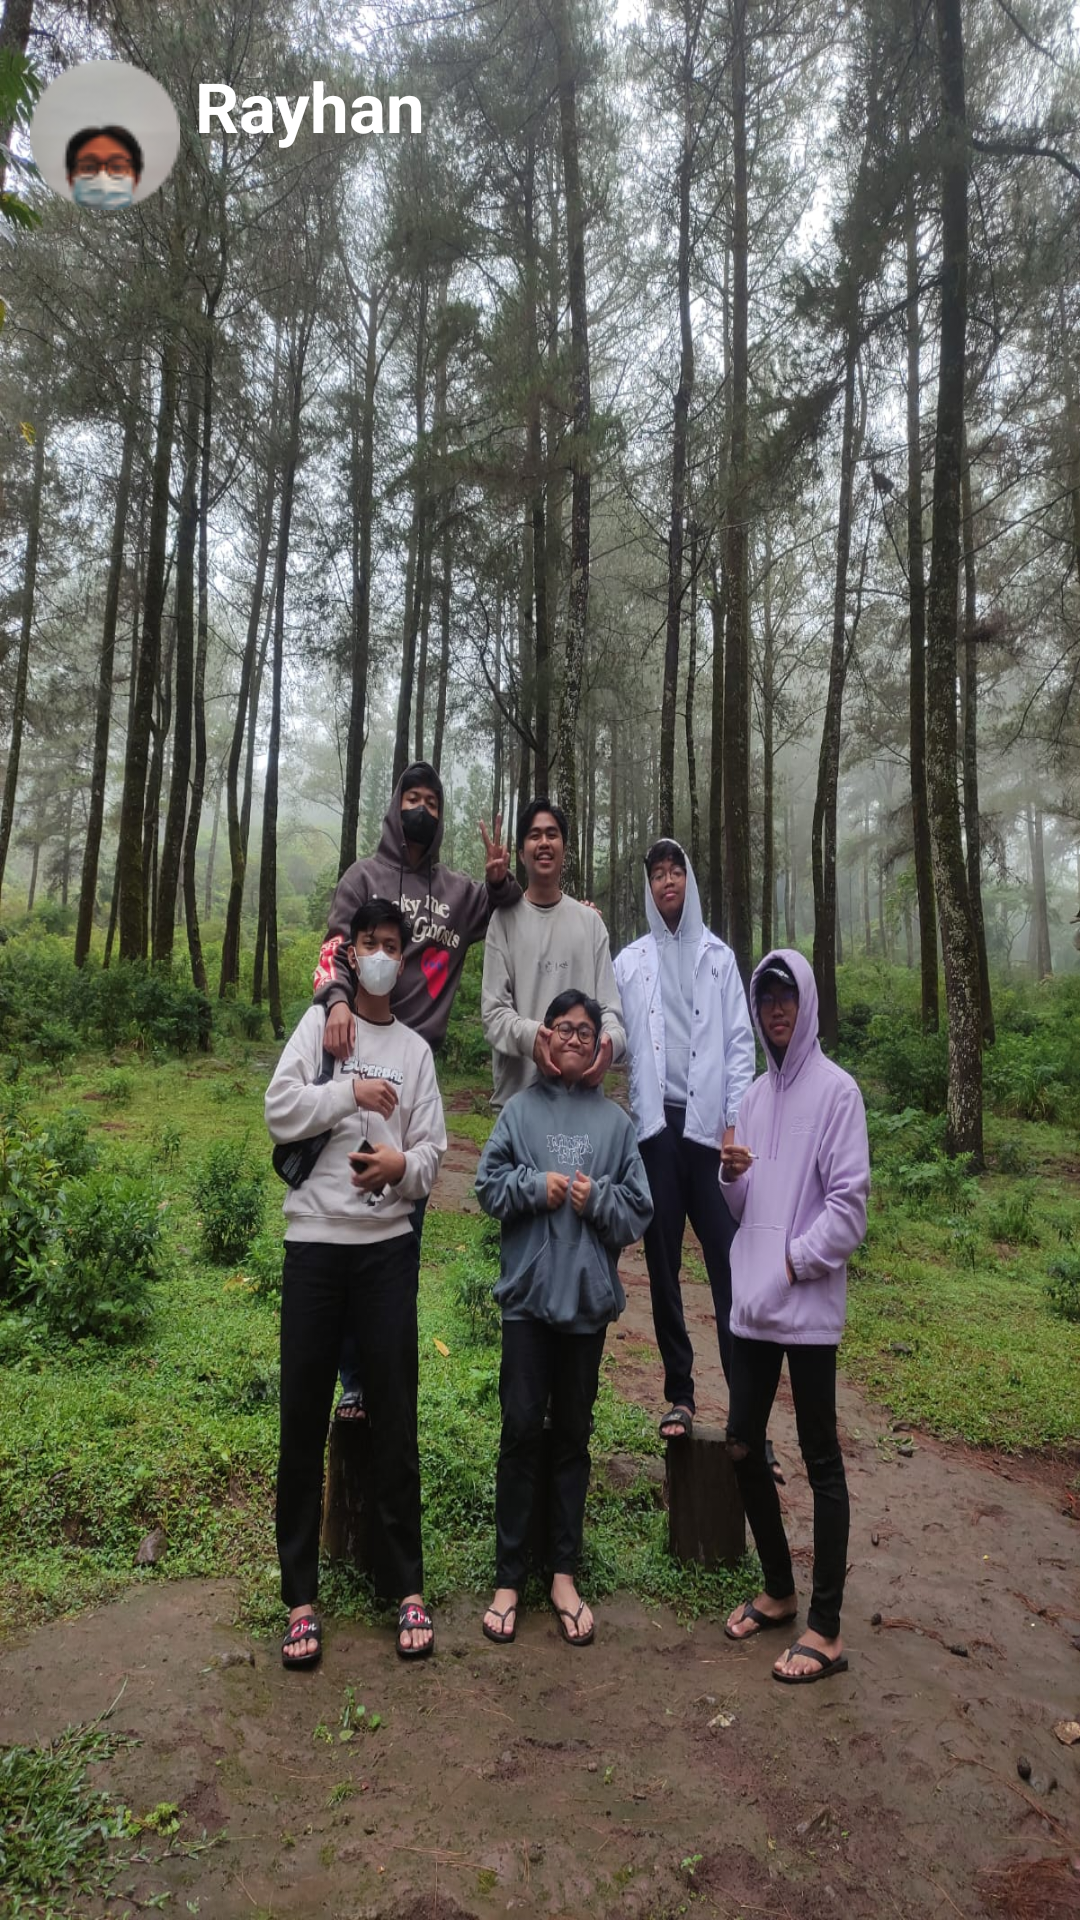

Icons on this 1080px×1920px Android screen, each with the point to tap as point (x, y):
chatprofil: point (105, 135)
